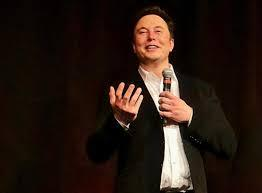Persons: (125, 5, 181, 70)
